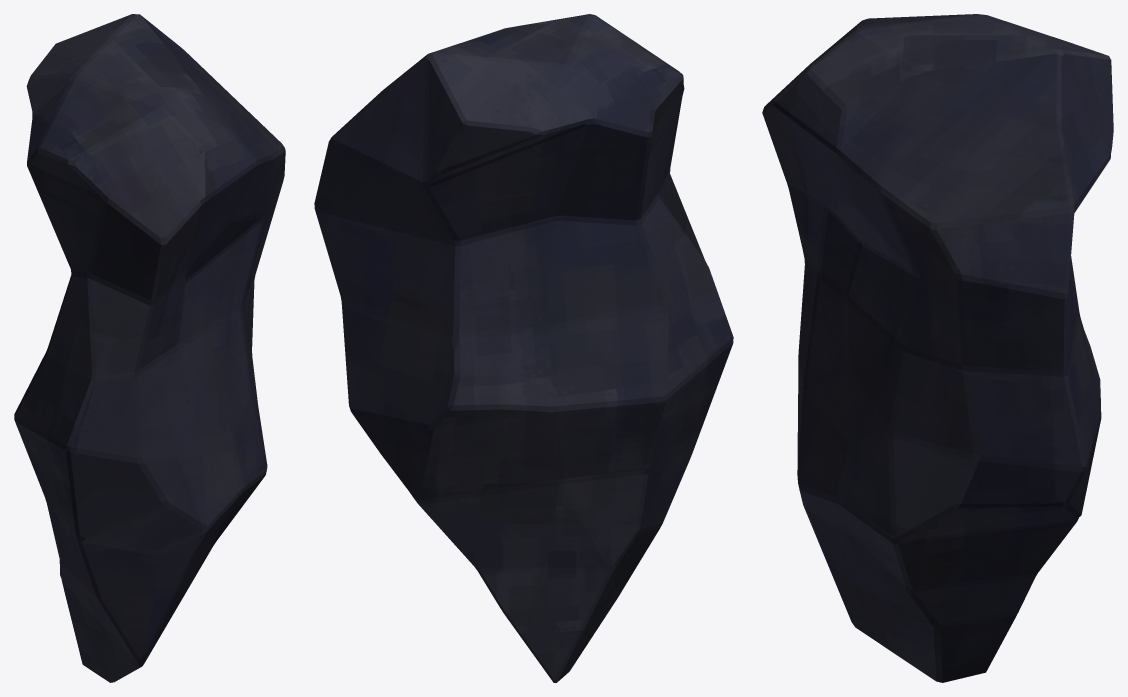
The model's file is rockagain.fbx.
The picture shows the model from 3 angles, left to right: view 1: azimuth 30°, elevation 25°; view 2: azimuth 150°, elevation 25°; view 3: azimuth 270°, elevation 25°; orthographic projection. The views are drawn at different scales.
Parts seen in each view (by area): view 1: Cube.051; view 2: Cube.051; view 3: Cube.051.
Boxes of the visible parts, x1,y1,x2,y2 form: Cube.051: (14,14,285,682); Cube.051: (314,14,733,682); Cube.051: (762,14,1113,682).
Size of the model in its own units: 1081 by 2190 by 1035.
